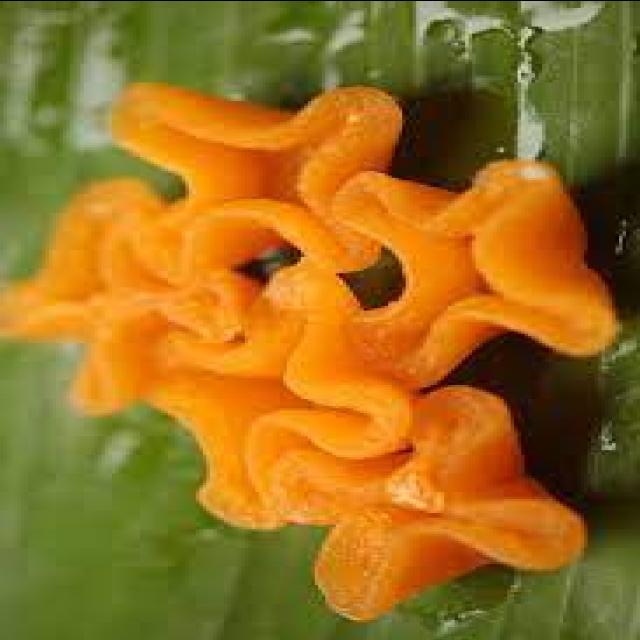Tongyib: (284, 360, 578, 626), (143, 267, 411, 523), (97, 75, 431, 276), (0, 184, 262, 430), (332, 158, 610, 382)
